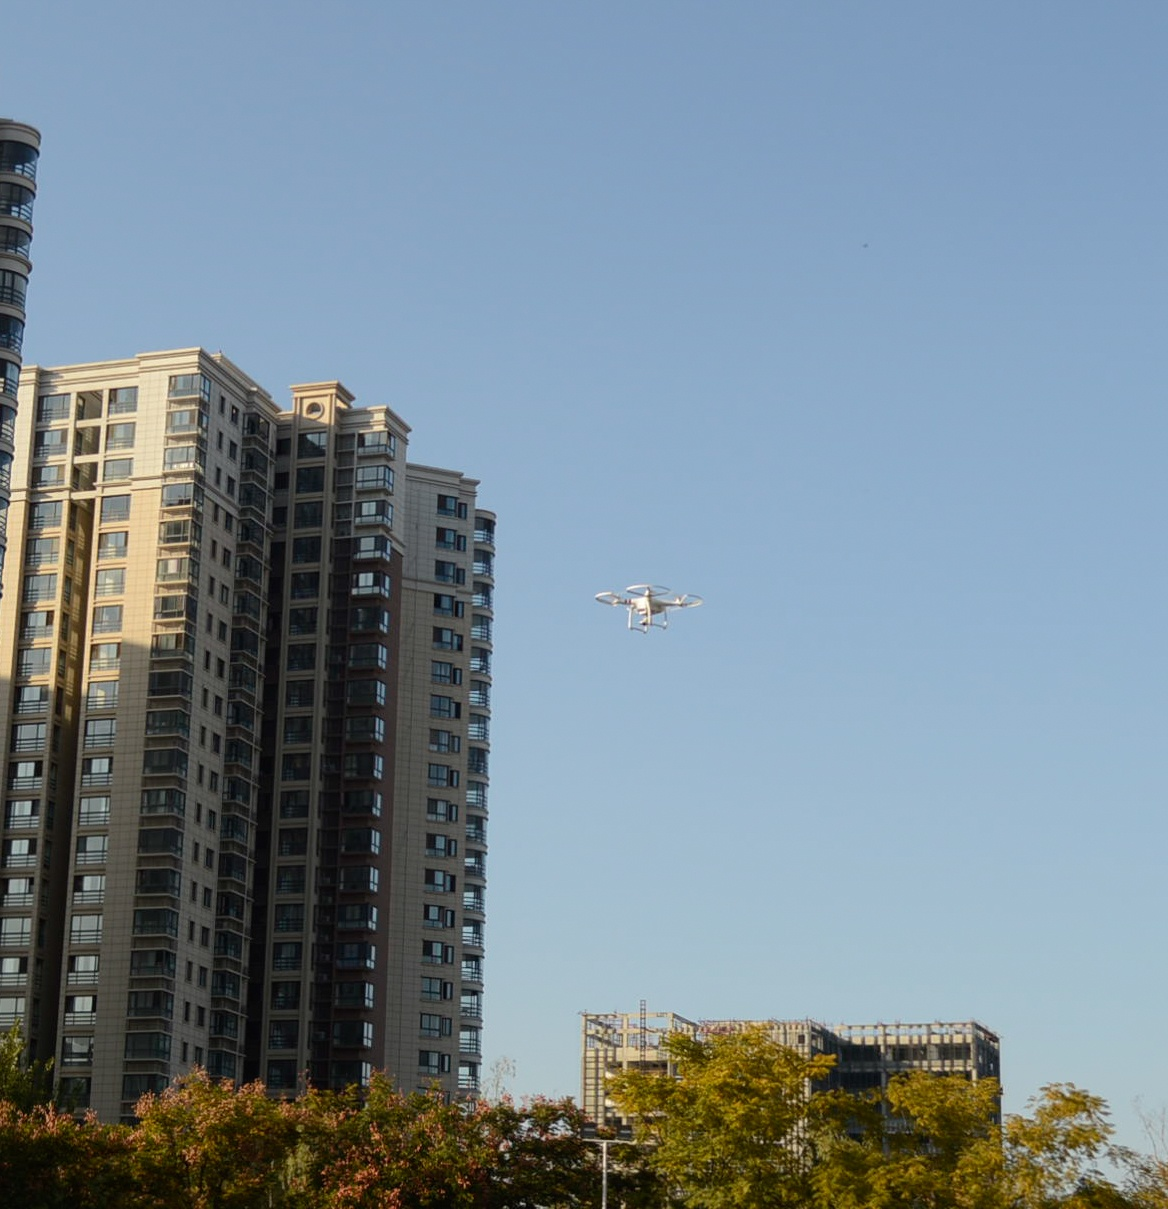DJI: (592, 576, 704, 634)
